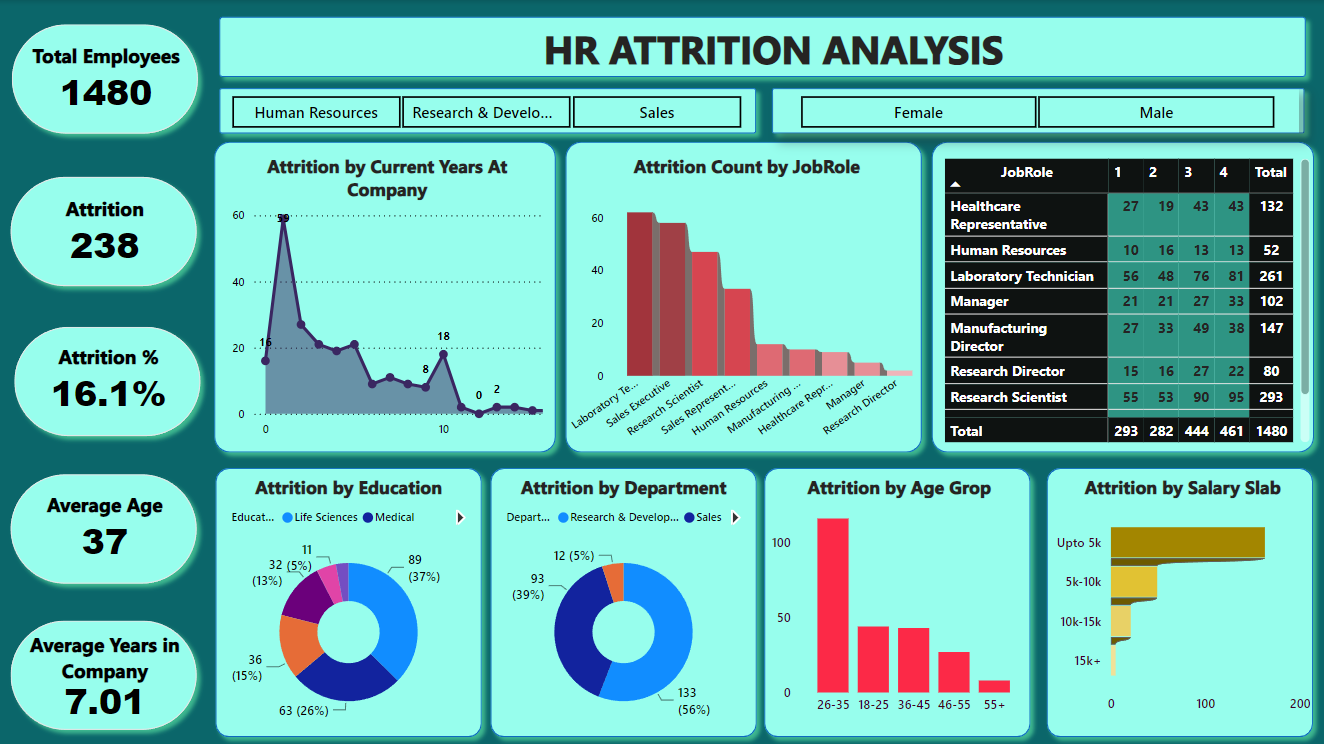

This screenshot's page, from the dashboard's own definition file:
{"tool":"powerbi","page":{"name":"Page 1","canvas":[1280,720],"ordinal":0},"visuals":[{"type":"shape","box":[2.4,14.3,197.6,123.5],"z":0},{"type":"shape","box":[1.2,161.5,197.6,123.5],"z":1000},{"type":"shape","box":[4.8,306.3,197.6,123.5],"z":2000},{"type":"shape","box":[1.2,448.7,197.6,123.5],"z":3000},{"type":"shape","box":[1.2,589.8,197.6,123.5],"z":4000},{"type":"card","title":"Total Employees","fields":{"Values":["Sum(HR_Analytics.EmployeeCount)"]},"box":[20.1,40.5,163.8,71.2],"z":5000},{"type":"card","title":"Attrition","fields":{"Values":["Sum(HR_Analytics.Attrition Count)"]},"box":[18.9,188.1,163.8,71.2],"z":6000},{"type":"card","title":"Attrition %","fields":{"Values":["HR_Analytics.Attrition Rate"]},"box":[22.5,331.9,163.8,71.2],"z":7000},{"type":"card","title":"Average Age","fields":{"Values":["Avg(HR_Analytics.Age)"]},"box":[18.9,474.7,163.8,71.2],"z":8000},{"type":"shape","box":[199.4,442.9,274.9,277.7],"z":9000},{"type":"card","title":"Average Years in Company","fields":{"Values":["Avg(HR_Analytics.YearsAtCompany)"]},"box":[18.9,609.2,163.8,85.4],"z":10000},{"type":"donutChart","title":"Attrition by Education","fields":{"Y":["Sum(HR_Analytics.Attrition Count)"],"Category":["HR_Analytics.EducationField"]},"box":[217.9,458.6,236.4,253.5],"z":11000},{"type":"shape","box":[464.3,442.9,274.9,277.7],"z":12000},{"type":"donutChart","title":"Attrition by Department","fields":{"Y":["Sum(HR_Analytics.Attrition Count)"],"Category":["HR_Analytics.Department"]},"box":[484.2,458.6,236.4,253.5],"z":13000},{"type":"shape","box":[729.2,442.3,274.9,277.7],"z":14000},{"type":"shape","box":[1001.2,442.3,274.9,277.7],"z":15000},{"type":"shape","box":[890.5,127.4,386.9,317.9],"z":16000},{"type":"columnChart","title":"Attrition by Age Grop","fields":{"Category":["HR_Analytics.AgeGroup"],"Y":["Sum(HR_Analytics.Attrition Count)"]},"box":[739.7,458.5,257,240.1],"z":17000},{"type":"shape","box":[536.9,127.4,361.9,317.9],"z":18000},{"type":"barChart","title":"Attrition by Salary Slab","fields":{"Y":["Sum(HR_Analytics.Attrition Count)"],"Category":["HR_Analytics.SalarySlab"]},"box":[1014,458.6,256.3,239.3],"z":19000},{"type":"columnChart","title":"Attrition Count by JobRole","fields":{"Category":["HR_Analytics.JobRole"],"Y":["Sum(HR_Analytics.Attrition Count)"]},"box":[542.9,148.8,356,284.5],"z":20000},{"type":"pivotTable","fields":{"Rows":["HR_Analytics.JobRole"],"Columns":["HR_Analytics.JobSatisfaction"],"Values":["Sum(HR_Analytics.EmployeeCount)"]},"box":[907.1,148.8,361.9,283.3],"z":21000},{"type":"shape","box":[197.6,127.4,347.6,317.9],"z":22000},{"type":"areaChart","title":"Attrition by Current Years At Company","fields":{"Y":["Sum(HR_Analytics.Attrition Count)"],"Category":["HR_Analytics.YearsAtCompany"]},"box":[217.9,148.8,310.7,283.3],"z":23000},{"type":"shape","box":[202.4,7.1,1066.7,76.2],"z":24000},{"type":"textbox","box":[240.5,16.7,1013.1,63.1],"z":25000},{"type":"shape","box":[736.3,76.4,532.1,61.9],"z":26000},{"type":"slicer","fields":{"Values":["HR_Analytics.Gender"]},"box":[746.8,85.6,507.1,42.1],"z":27000},{"type":"shape","box":[202.8,76.4,536.1,61.9],"z":28000},{"type":"slicer","fields":{"Values":["HR_Analytics.Department"]},"box":[197.6,85.6,541.3,43.5],"z":29000}]}

Visuals, with their boxes in screenshot pixels (x1, y1, x2, y2), scaled from the page's 1280x720 canvas onto the 1324x744 screenshot:
shape: region(2, 15, 207, 142)
shape: region(1, 167, 206, 295)
shape: region(5, 317, 209, 444)
shape: region(1, 464, 206, 591)
shape: region(1, 609, 206, 737)
"Total Employees" card: region(21, 42, 190, 115)
"Attrition" card: region(20, 194, 189, 268)
"Attrition %" card: region(23, 343, 193, 417)
"Average Age" card: region(20, 491, 189, 564)
shape: region(206, 458, 491, 743)
"Average Years in Company" card: region(20, 630, 189, 718)
"Attrition by Education" donutChart: region(225, 474, 470, 736)
shape: region(480, 458, 765, 743)
"Attrition by Department" donutChart: region(501, 474, 745, 736)
shape: region(754, 457, 1039, 743)
shape: region(1036, 457, 1320, 743)
shape: region(921, 132, 1321, 460)
"Attrition by Age Grop" columnChart: region(765, 474, 1031, 722)
shape: region(555, 132, 930, 460)
"Attrition by Salary Slab" barChart: region(1049, 474, 1314, 721)
"Attrition Count by JobRole" columnChart: region(562, 154, 930, 448)
pivotTable - HR_Analytics.JobRole x HR_Analytics.JobSatisfaction: region(938, 154, 1313, 447)
shape: region(204, 132, 564, 460)
"Attrition by Current Years At Company" areaChart: region(225, 154, 547, 447)
shape: region(209, 7, 1313, 86)
textbox: region(249, 17, 1297, 82)
shape: region(762, 79, 1312, 143)
slicer - HR_Analytics.Gender: region(772, 88, 1297, 132)
shape: region(210, 79, 764, 143)
slicer - HR_Analytics.Department: region(204, 88, 764, 133)
